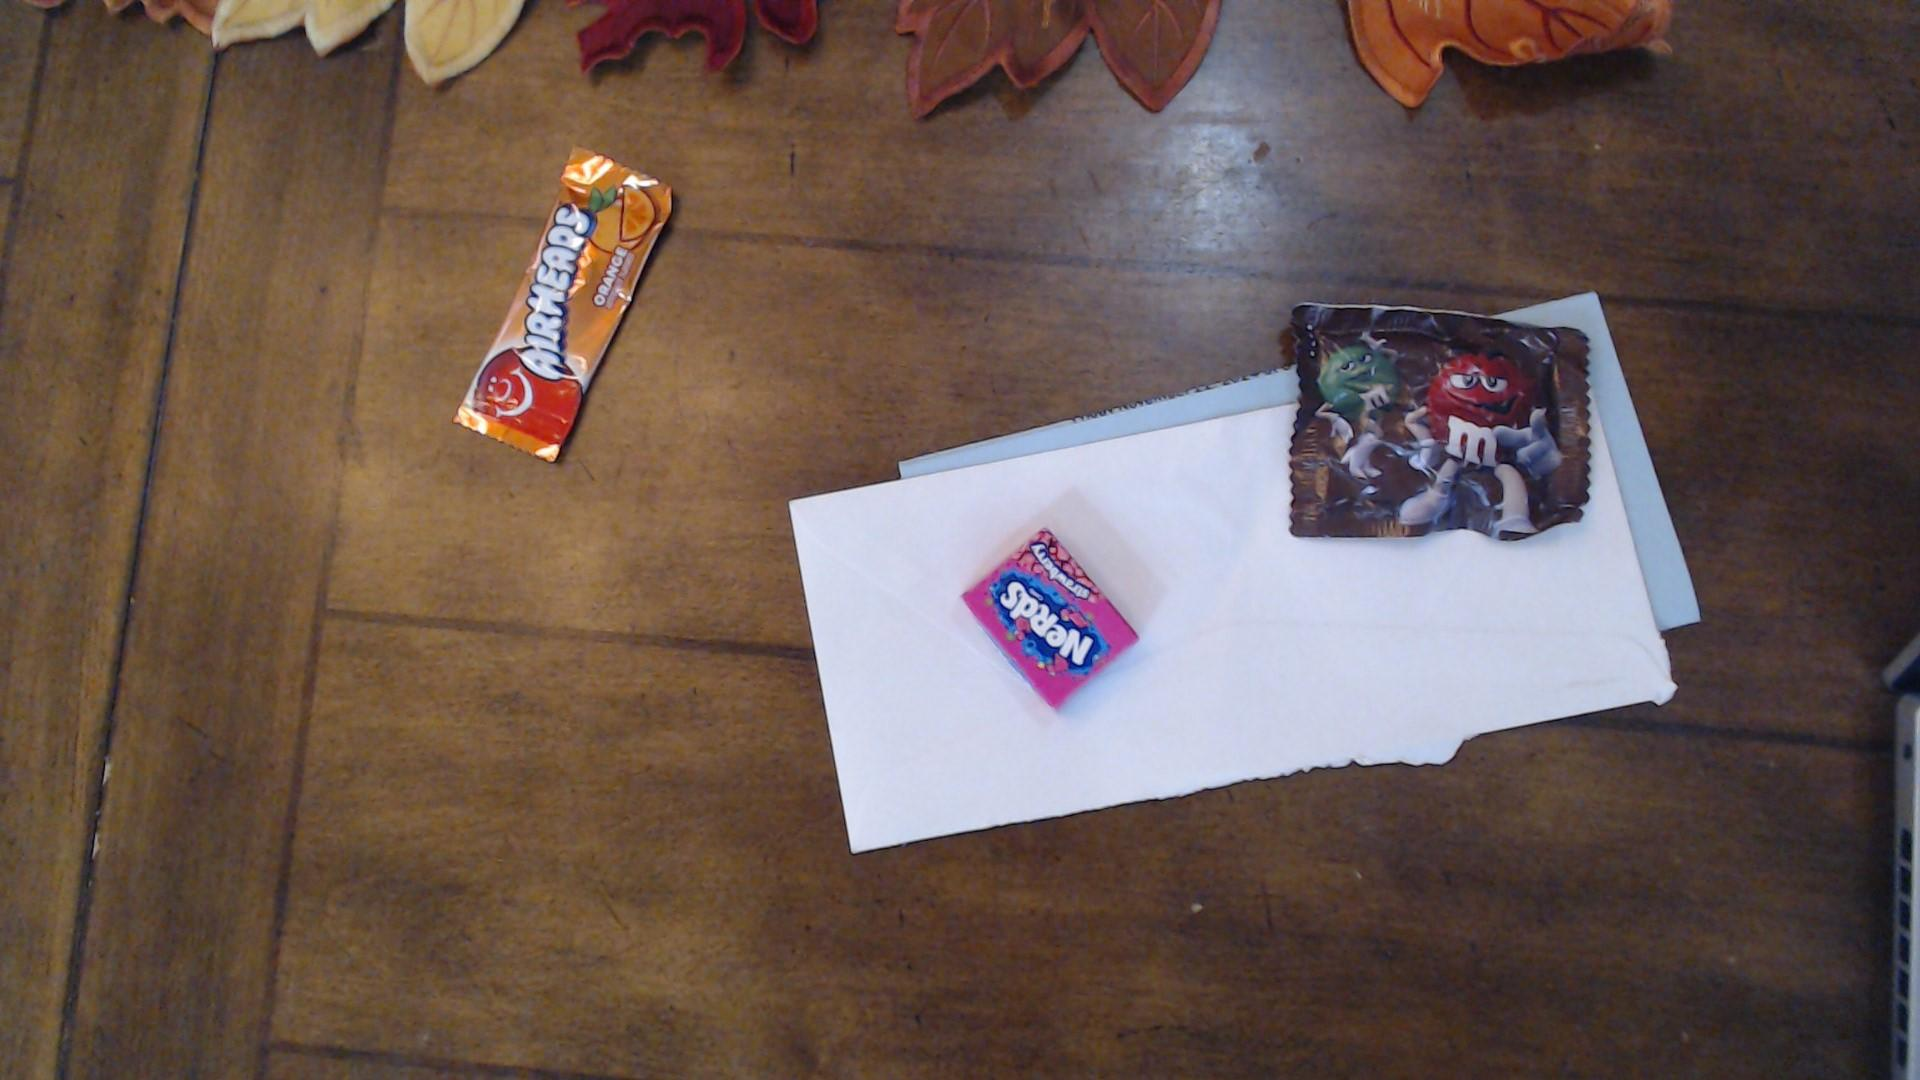MM_regular: (1286, 294, 1598, 553)
airheads: (448, 146, 671, 465)
nerds: (959, 525, 1142, 712)
